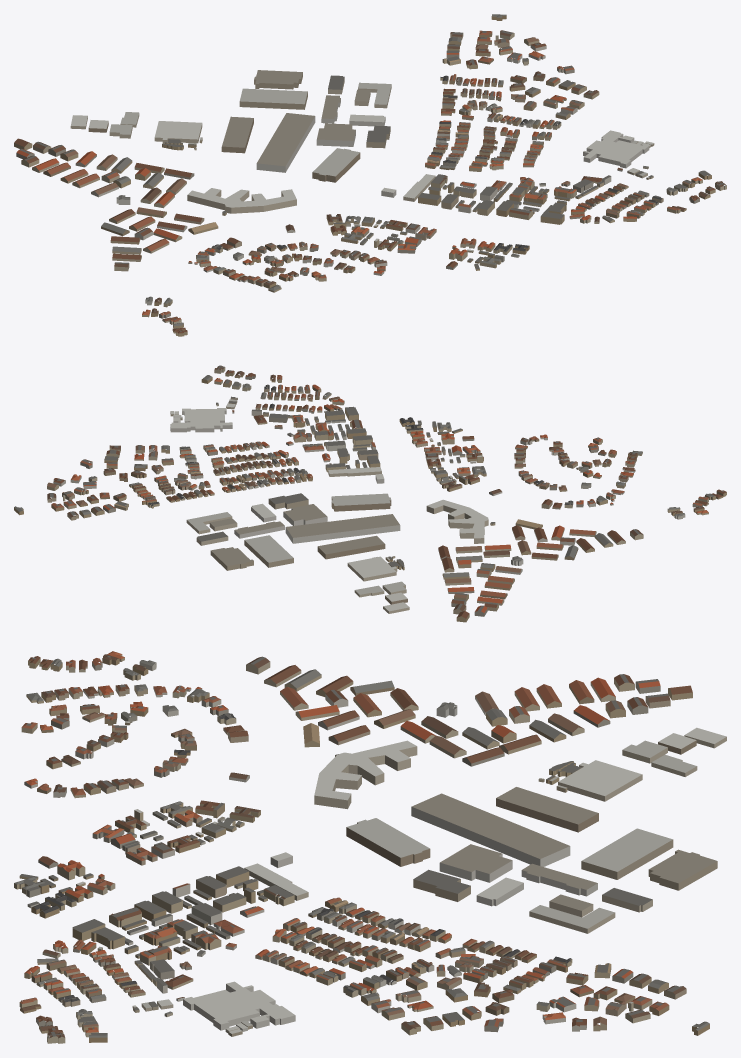
The picture shows the model from 3 angles, top to bottom: view 1: azimuth 30°, elevation 25°; view 2: azimuth 150°, elevation 25°; view 3: azimuth 270°, elevation 25°; orthographic projection. The views are drawn at different scales.
Parts seen in each view (by area): view 1: buildings_r5_c6_lod1; view 2: buildings_r5_c6_lod1; view 3: buildings_r5_c6_lod1.
Boxes of the visible parts, box(x1,y1,x2,y2) form: buildings_r5_c6_lod1: box(14, 14, 726, 336); buildings_r5_c6_lod1: box(14, 365, 726, 622); buildings_r5_c6_lod1: box(14, 651, 726, 1043).
Bounding box in the file's own units: 1083 × 55.79 × 813.
